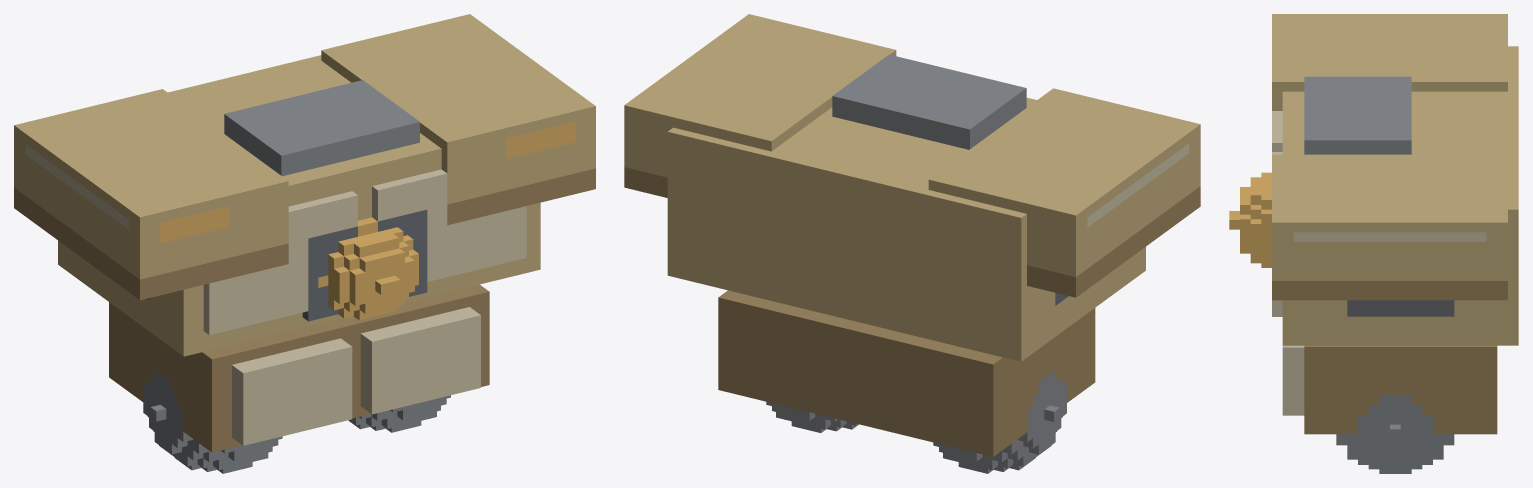
The model's file is torso.glb.
The picture shows the model from 3 angles, left to right: view 1: azimuth 30°, elevation 25°; view 2: azimuth 150°, elevation 25°; view 3: azimuth 270°, elevation 25°; orthographic projection. The views are drawn at different scales.
Size of the model in its own units: 46 by 33 by 27.
